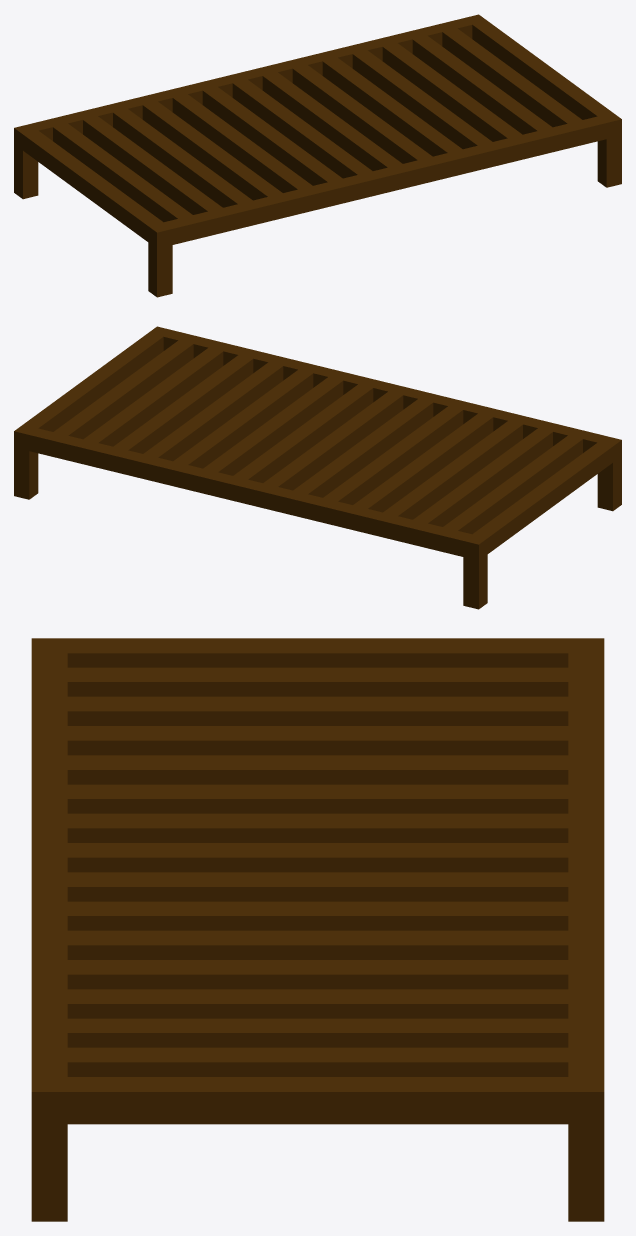
File: japanese_inspired_bed_frame.glb
3 renders of one model, top to bottom at view 1: azimuth 30°, elevation 25°; view 2: azimuth 150°, elevation 25°; view 3: azimuth 270°, elevation 25°, orthographic. The views are drawn at different scales.
Visible parts, largest first — view 1: Cube; view 2: Cube; view 3: Cube.
Part boxes in pixels (x1,y1,x2,y2): Cube: [14, 14, 621, 297]; Cube: [14, 326, 621, 609]; Cube: [31, 638, 604, 1221].
Bounding box in the file's own units: 60 × 8 × 32.
